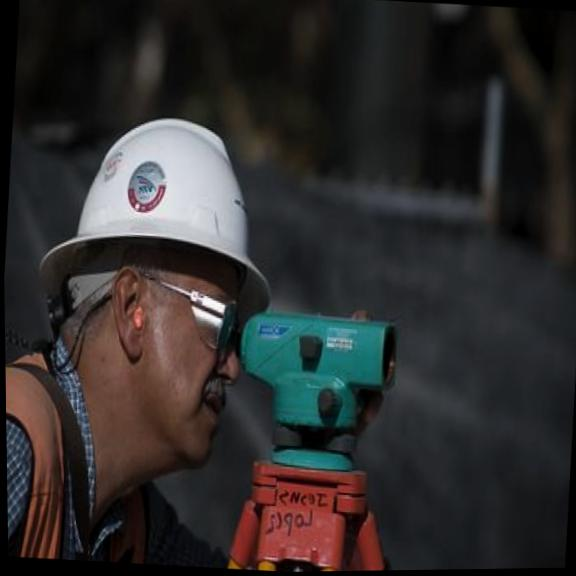safety_vest: (5, 341, 161, 565)
